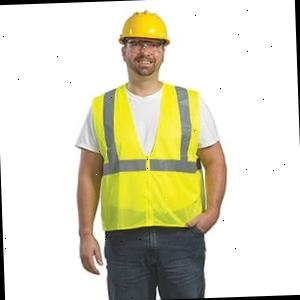helmet: (116, 9, 172, 50)
wear: (95, 83, 210, 232)
